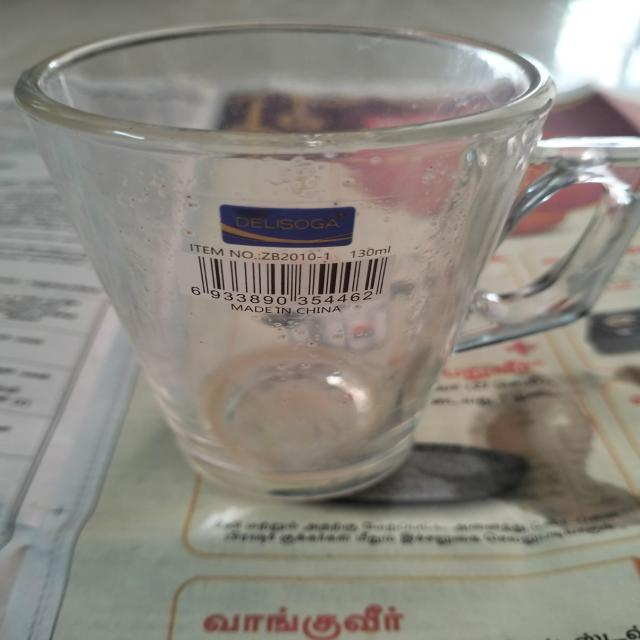glass-VX4N: (14, 23, 640, 505)
